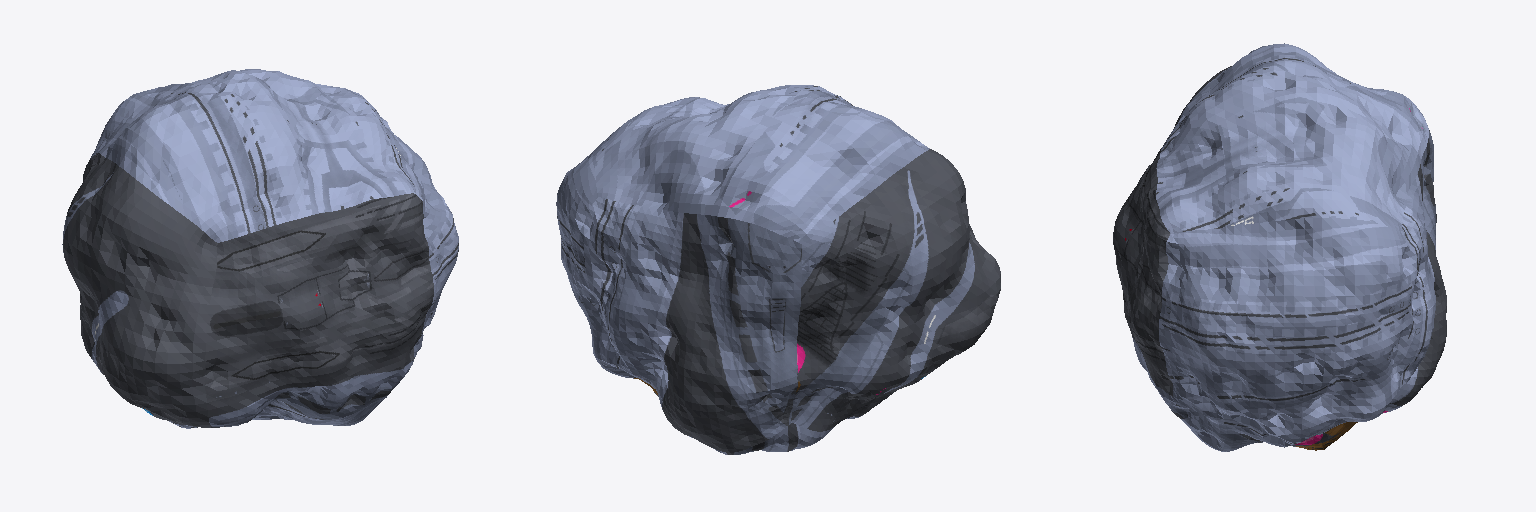
3 views of the same model, side by side, from view 1: azimuth 30°, elevation 25°; view 2: azimuth 150°, elevation 25°; view 3: azimuth 270°, elevation 25° (orthographic).
Visible parts, largest first — view 1: Object_2; view 2: Object_2; view 3: Object_2.
Boxes of the visible parts, x1=… form: Object_2: x1=62, y1=69, x2=458, y2=428; Object_2: x1=556, y1=85, x2=1000, y2=454; Object_2: x1=1113, y1=43, x2=1446, y2=451.
Size of the model in its own units: 1.83 by 1.64 by 1.45.
1 materials, 1 textured.